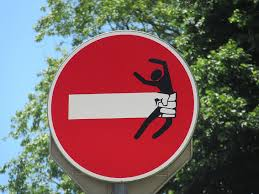No entry: (47, 31, 198, 179)
